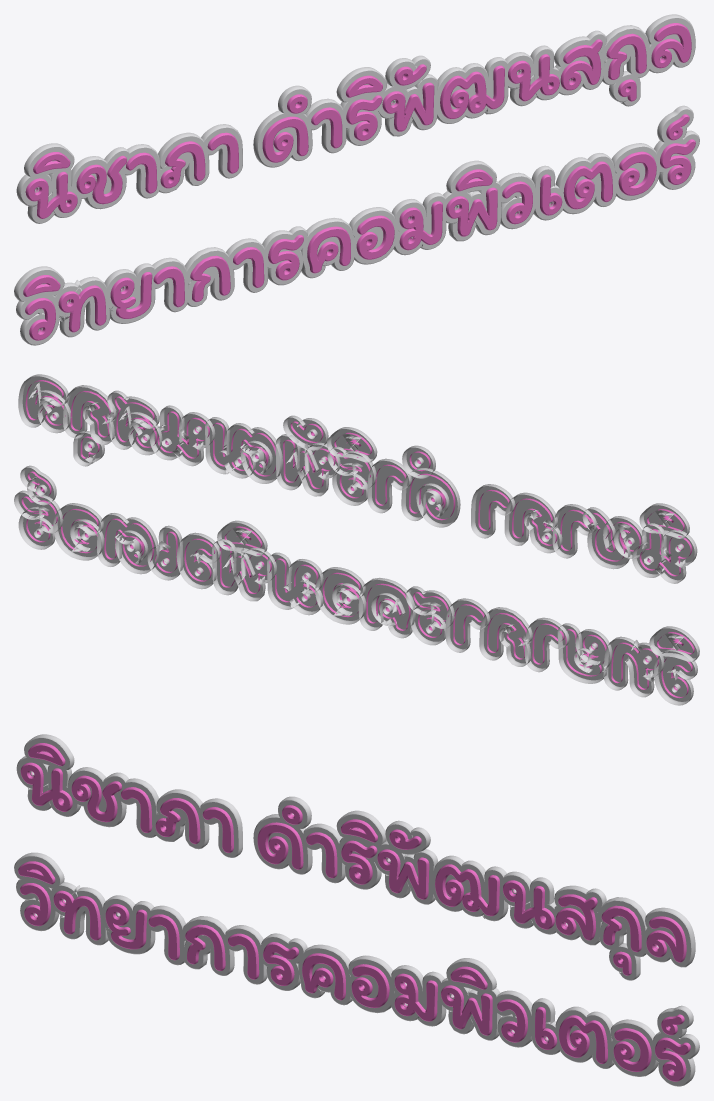
3 renders of one model, top to bottom at view 1: azimuth 30°, elevation 25°; view 2: azimuth 150°, elevation 25°; view 3: azimuth 330°, elevation 25°, orthographic.
Visible parts, largest first — view 1: Text.001, Text; view 2: Text.001, Text; view 3: Text.001, Text.
Boxes of the visible parts, box(x1,y1,x2,y2) form: Text.001: box(14, 14, 699, 345); Text: box(23, 23, 695, 340); Text.001: box(14, 374, 699, 705); Text: box(21, 380, 694, 698); Text.001: box(14, 734, 699, 1086); Text: box(18, 743, 690, 1081).
Bounding box in the file's own units: 4.75 × 1.31 × 0.0606.
